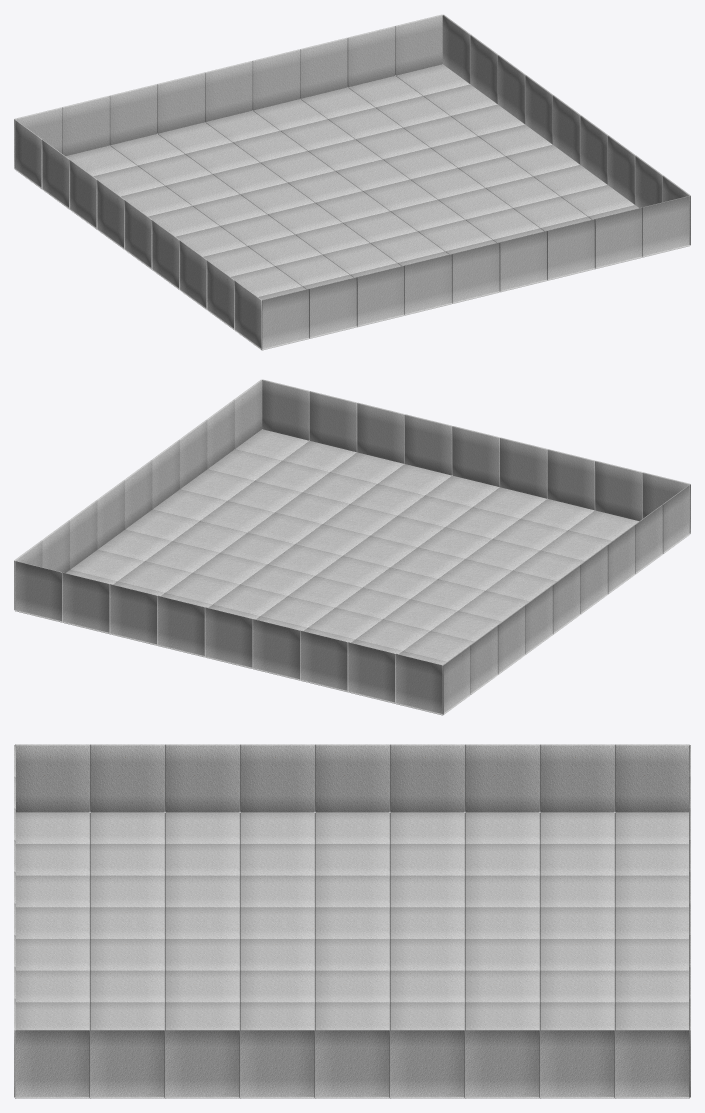
File: floor.obj
3 renders of one model, top to bottom at view 1: azimuth 30°, elevation 25°; view 2: azimuth 150°, elevation 25°; view 3: azimuth 270°, elevation 25°, orthographic. The views are drawn at different scales.
Visible parts, largest first — view 1: FloorPiece.068_Cube.069; view 2: FloorPiece.068_Cube.069; view 3: FloorPiece.068_Cube.069.
Part boxes in pixels (box(x1,y1,x2,y2)): FloorPiece.068_Cube.069: box(14, 14, 690, 350); FloorPiece.068_Cube.069: box(14, 379, 690, 715); FloorPiece.068_Cube.069: box(14, 744, 690, 1098).
Bounding box in the file's own units: 18.05 × 2.03 × 18.05.
